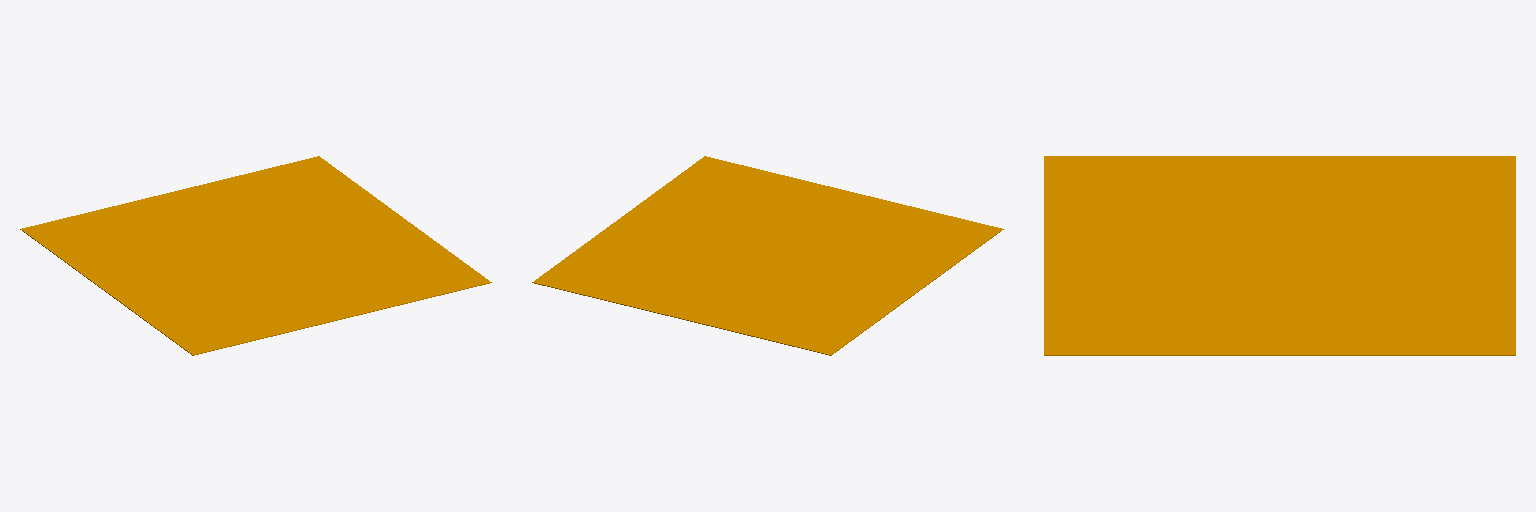
robot.urdf — roof:
<?xml version="1.0"?>
<robot name="roof">
    <link name="roof">
        <inertial>
            <mass value="0.151" />
            <inertia ixx="3.8554e-03" ixy="9.4075e-03" ixz="1.709e-03" iyy="4.445e-03" iyz="1.2246e-03" izz="2.5729e-03" />
        </inertial>
        <collision name="collision">
            <origin xyz="4 4 0.01" rpy="0 0 0" />
            <geometry>
                <box size="8 8 0.02" />
            </geometry>
        </collision>
        <visual name="visual">
            <origin xyz="4 4 0.01" rpy="0 0 0" />
            <geometry>
                <box size="8 8 0.02" />
            </geometry>
        </visual>
    </link>
</robot>

--- Render facts (derived) ---
3 views of the same robot in one strip: view 1: azimuth 30°, elevation 25°; view 2: azimuth 150°, elevation 25°; view 3: azimuth 270°, elevation 25° (orthographic).
Model roof with 1 links and 0 joints (none), rooted at roof, posed all joints at 0.
Links seen in each view (by area): view 1: roof; view 2: roof; view 3: roof.
Boxes of the visible links, bbox=[...] form: roof: bbox=[20, 156, 491, 355]; roof: bbox=[532, 156, 1003, 355]; roof: bbox=[1044, 156, 1515, 355].
Bounding box of the posed robot: 8 × 8 × 0.02 m (x, y, z).
Geometry: primitives only (box / cylinder / sphere), no mesh files.
